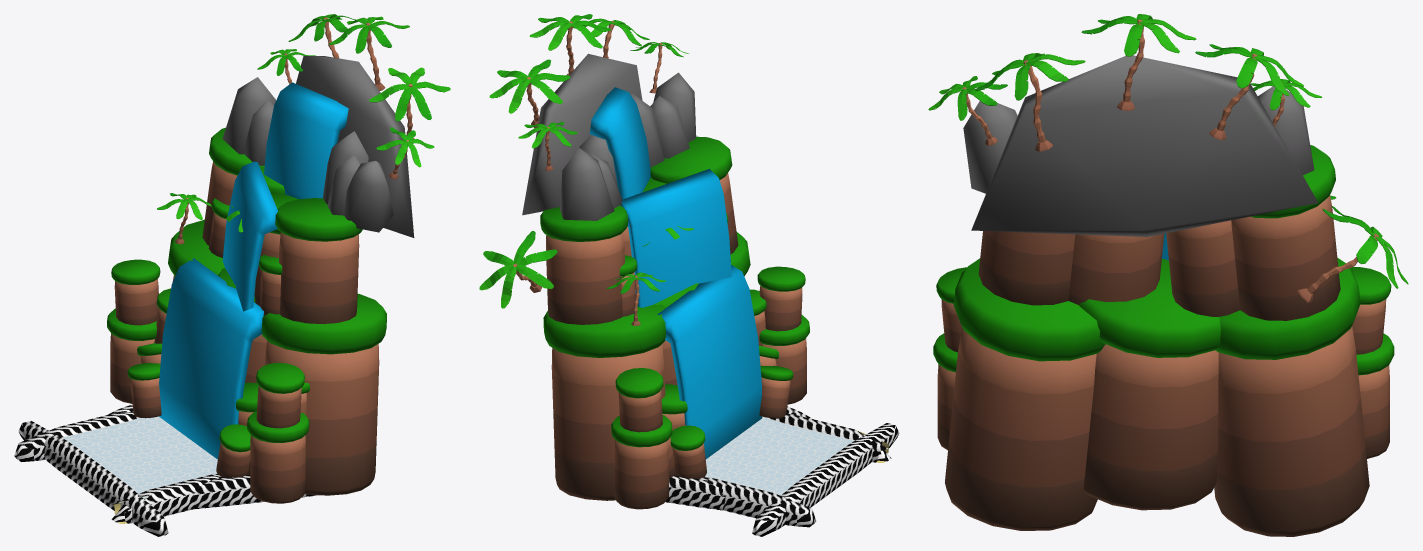
Rendered from WATERFULL3.fbx.
The picture shows the model from 3 angles, left to right: view 1: azimuth 30°, elevation 25°; view 2: azimuth 150°, elevation 25°; view 3: azimuth 270°, elevation 25°; orthographic projection. The views are drawn at different scales.
Parts seen in each view (by area): view 1: waterfall; view 2: waterfall; view 3: waterfall.
Boxes of the visible parts, x1,y1,x2,y2 form: waterfall: (14, 14, 450, 536); waterfall: (479, 14, 899, 536); waterfall: (928, 14, 1408, 536).
Bounding box in the file's own units: 16214 × 18905 × 14905.
11 materials, 5 textured.
